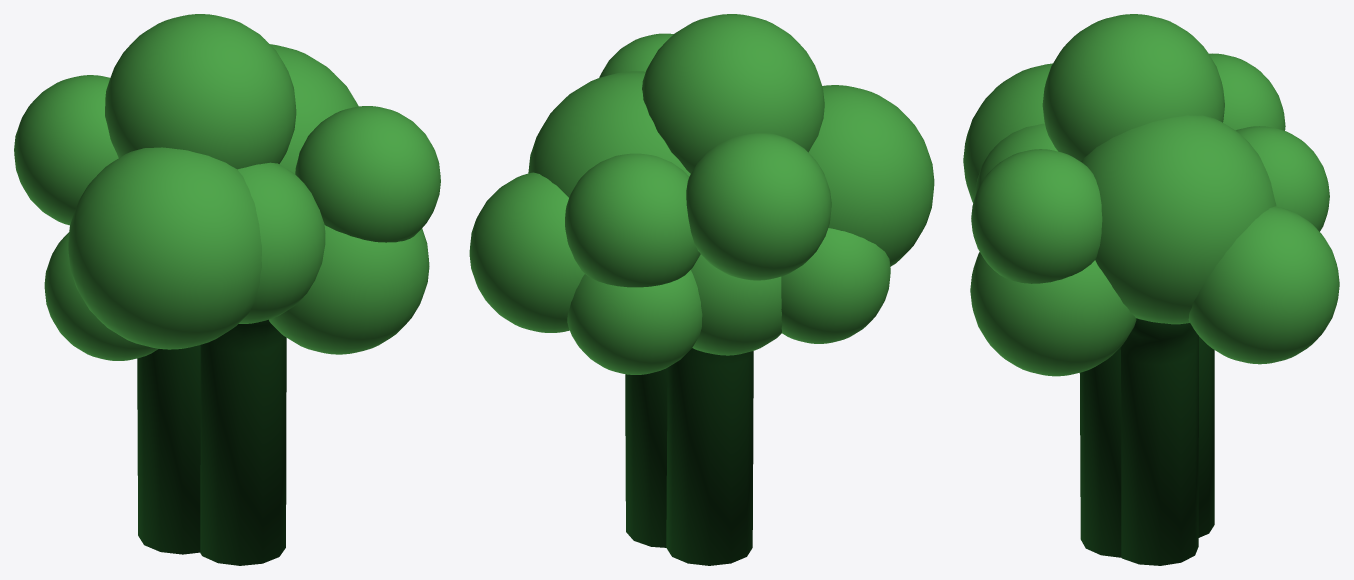
Rendered from Brocoli.fbx.
3 renders of one model, left to right at view 1: azimuth 30°, elevation 25°; view 2: azimuth 150°, elevation 25°; view 3: azimuth 270°, elevation 25°, orthographic. The views are drawn at different scales.
Visible parts, largest first — view 1: Brocoli; view 2: Brocoli; view 3: Brocoli.
Boxes of the visible parts, x1,y1,x2,y2 form: Brocoli: (14,14,440,565); Brocoli: (469,14,934,565); Brocoli: (963,14,1339,565).
Bounding box in the file's own units: 207 × 298 × 203.
